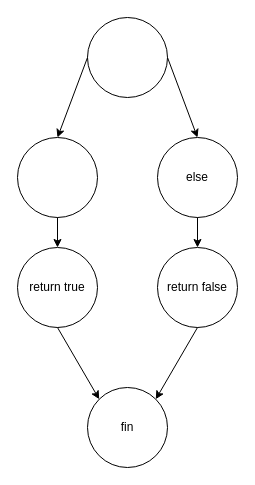
The diagram is 255 pixels wide and 485 high, and some of its shapes have lost their labels. Here are the shapes that lost their labels. From the top down, the centre of each, then its label:
(x=127, y=57): sec
(x=57, y=177): if
